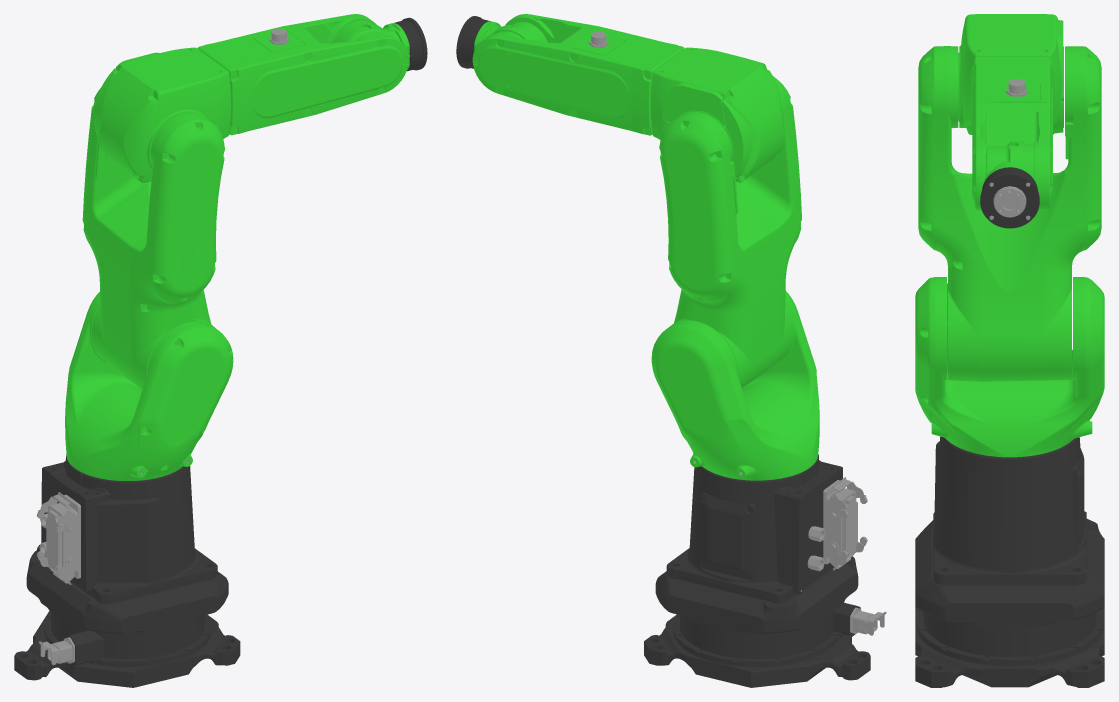
Rendered from FANUC_CR7iA.glb.
3 renders of one model, left to right at view 1: azimuth 30°, elevation 25°; view 2: azimuth 150°, elevation 25°; view 3: azimuth 270°, elevation 25°, orthographic. The views are drawn at different scales.
Visible parts, largest first — view 1: link_0, link_2, link_1, link_4, link_3, link_5; view 2: link_0, link_2, link_1, link_4, link_3, link_5; view 3: link_0, link_2, link_1, link_4, link_3, link_5, link_6.
Part boxes in pixels (left/top/right/bottom): link_0: left=14, top=454, right=240, bottom=687; link_2: left=82, top=88, right=224, bottom=389; link_1: left=65, top=292, right=233, bottom=480; link_4: left=197, top=14, right=408, bottom=135; link_3: left=94, top=47, right=231, bottom=182; link_5: left=333, top=17, right=427, bottom=71; link_0: left=644, top=454, right=886, bottom=687; link_2: left=659, top=76, right=801, bottom=388; link_1: left=651, top=291, right=819, bottom=480; link_4: left=472, top=14, right=684, bottom=135; link_3: left=650, top=47, right=784, bottom=182; link_5: left=456, top=16, right=547, bottom=68; link_0: left=915, top=436, right=1104, bottom=687; link_2: left=918, top=46, right=1101, bottom=381; link_1: left=915, top=277, right=1104, bottom=457; link_4: left=970, top=56, right=1054, bottom=210; link_3: left=958, top=14, right=1063, bottom=134; link_5: left=980, top=141, right=1039, bottom=228; link_6: left=993, top=186, right=1026, bottom=217.
Size of the model in its own units: 0.637 by 0.8859 by 0.235.
